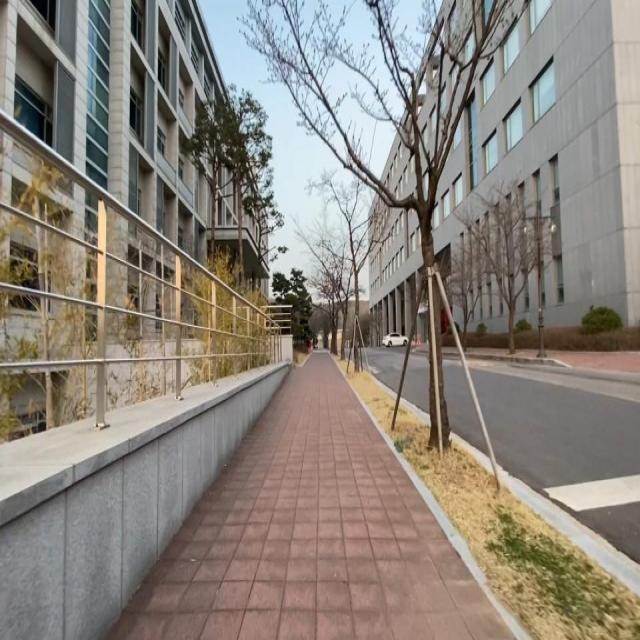sidewalk: (105, 350, 524, 640), (546, 350, 640, 373), (473, 348, 510, 356), (512, 350, 539, 357)
